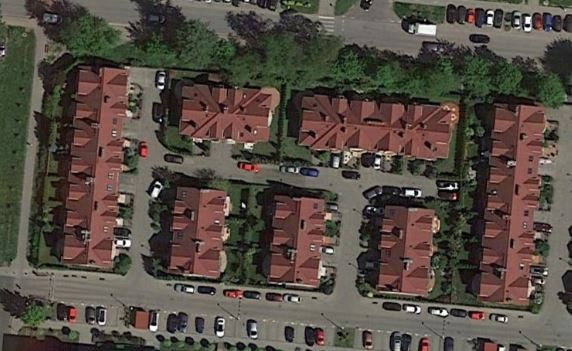terrace house: (468, 100, 552, 309), (54, 57, 136, 271), (293, 87, 456, 162), (258, 191, 334, 289), (160, 183, 234, 281), (171, 81, 278, 145), (372, 203, 440, 295)
